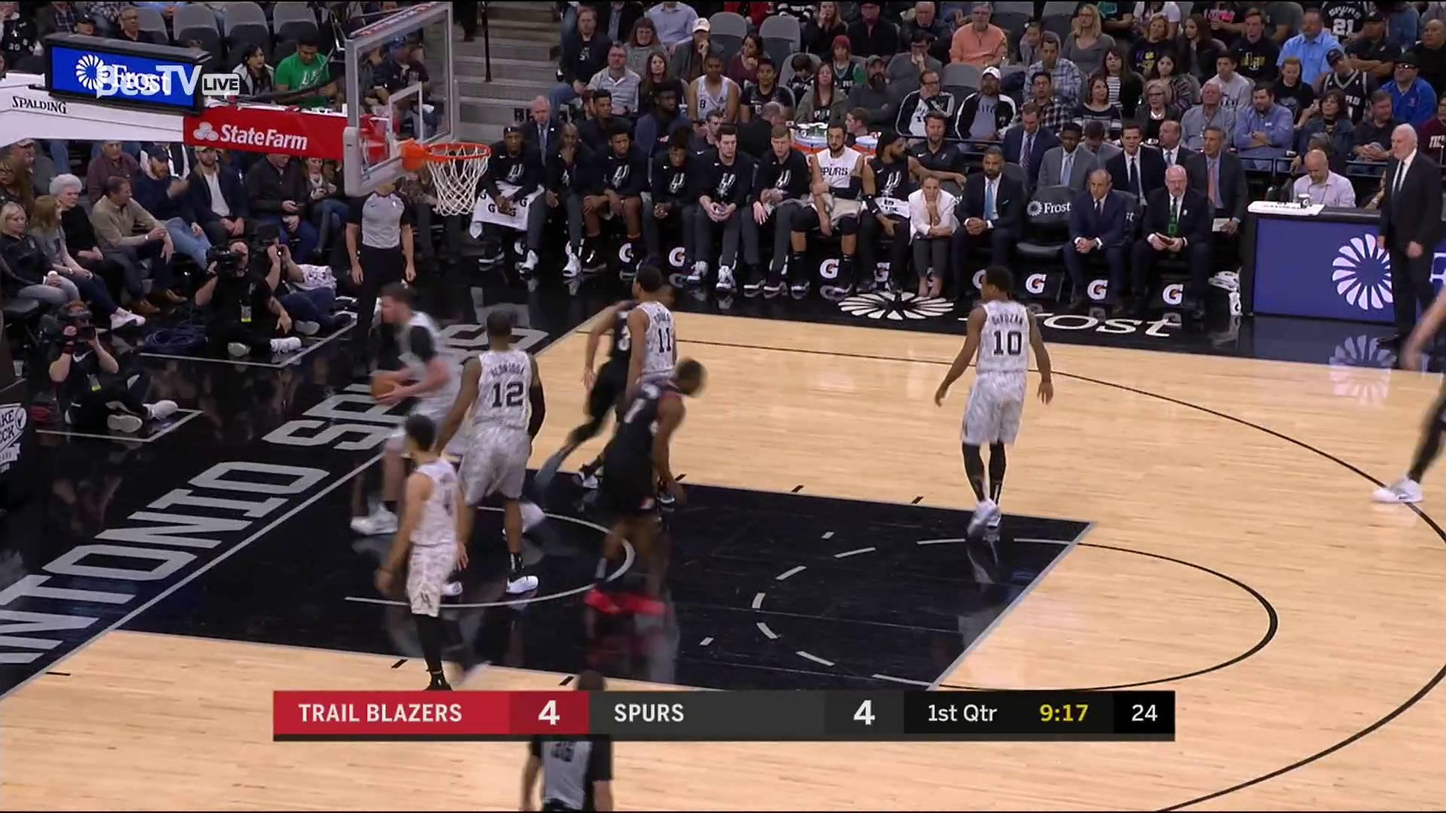basketball: (369, 372, 400, 401)
